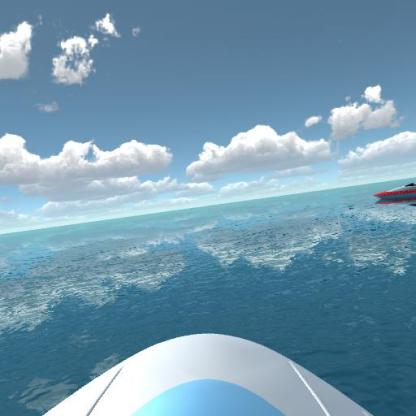usv3: (372, 178, 415, 208)
